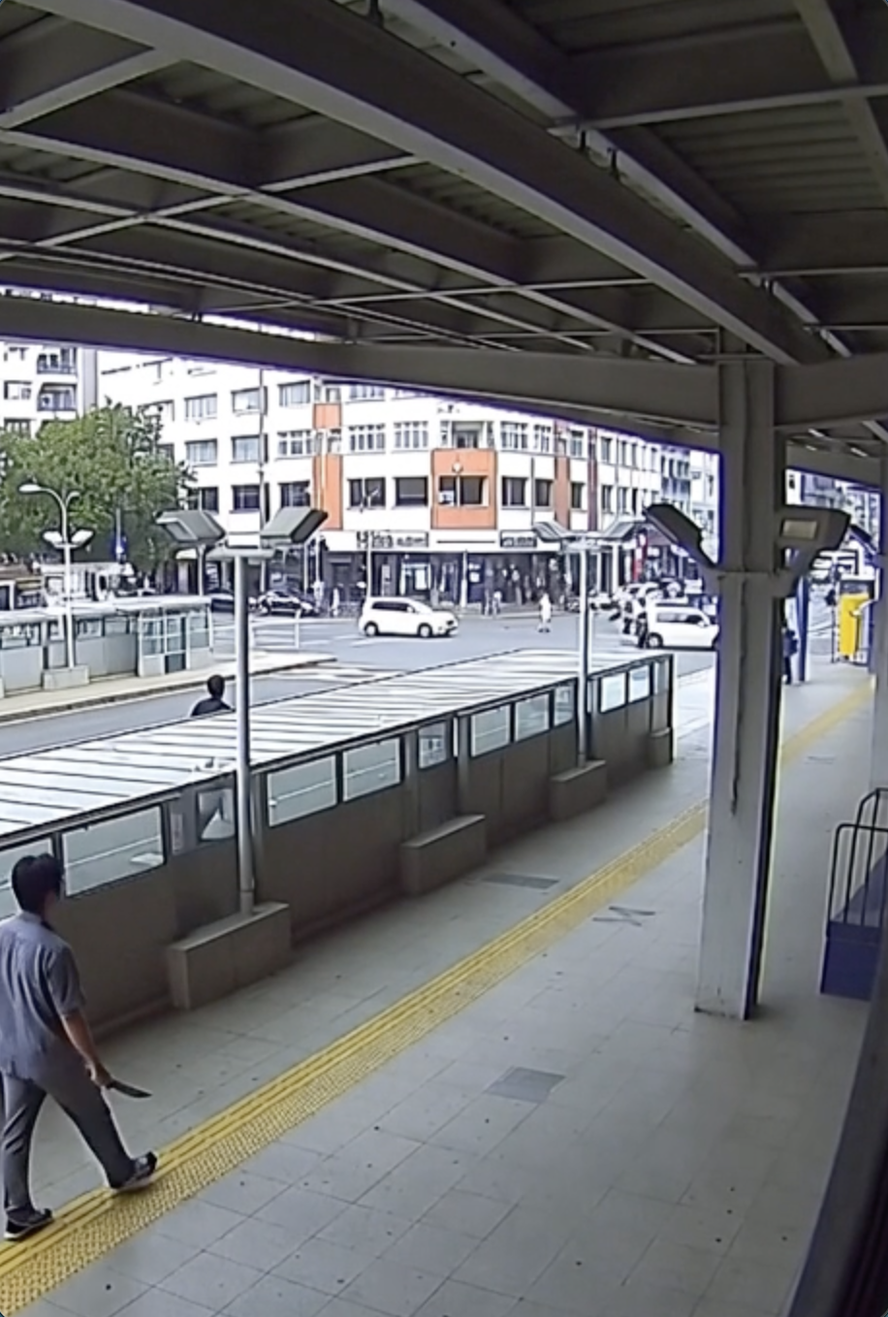Heavy Gun: (0, 850, 170, 1234)
Knife: (82, 1062, 155, 1105)
